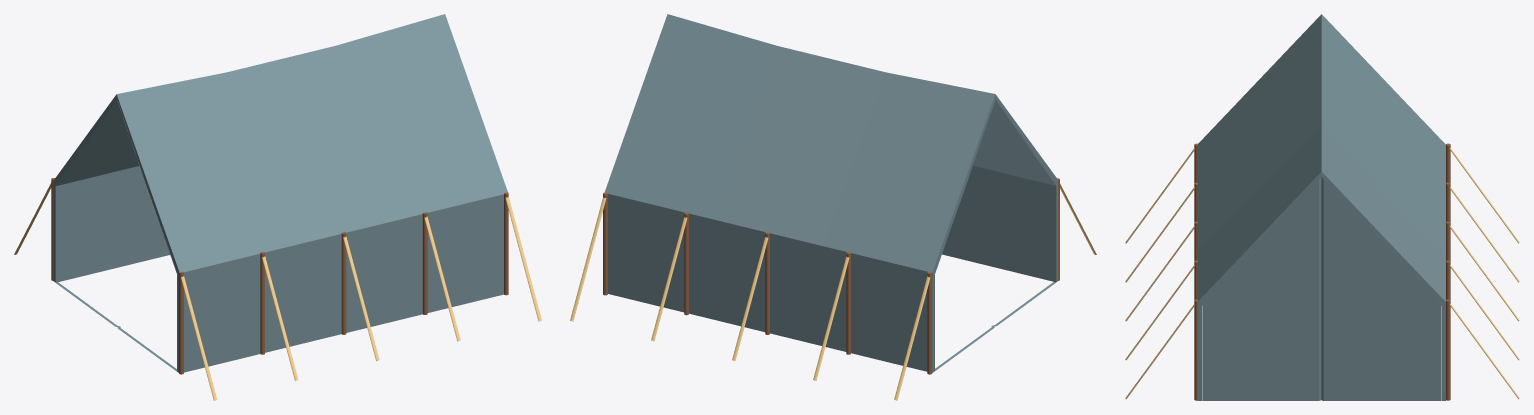
File: taen.fbx
The picture shows the model from 3 angles, left to right: view 1: azimuth 30°, elevation 25°; view 2: azimuth 150°, elevation 25°; view 3: azimuth 270°, elevation 25°; orthographic projection.
Visible parts, largest first — view 1: taen; view 2: taen; view 3: taen.
Boxes of the visible parts, left/top/right/bottom form: taen: left=14, top=14, right=541, bottom=400; taen: left=570, top=14, right=1096, bottom=400; taen: left=1125, top=14, right=1519, bottom=400.
Size of the model in its own units: 6.55 by 4.42 by 6.88.
